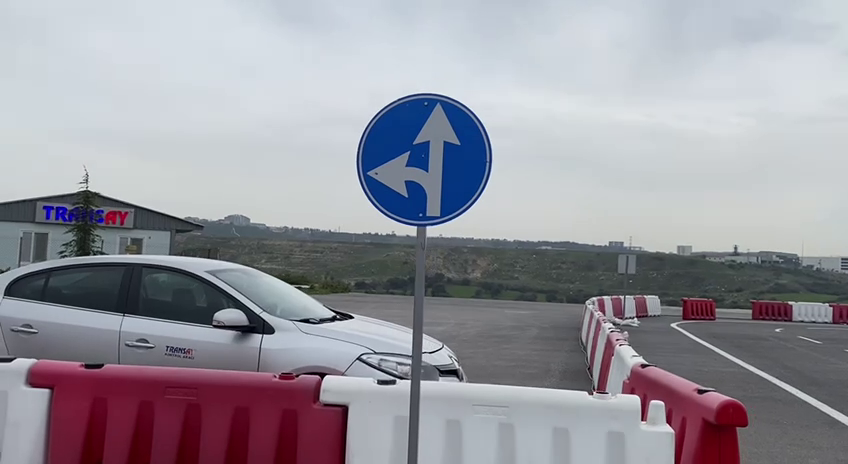forwardAndLeft: (352, 88, 497, 230)
